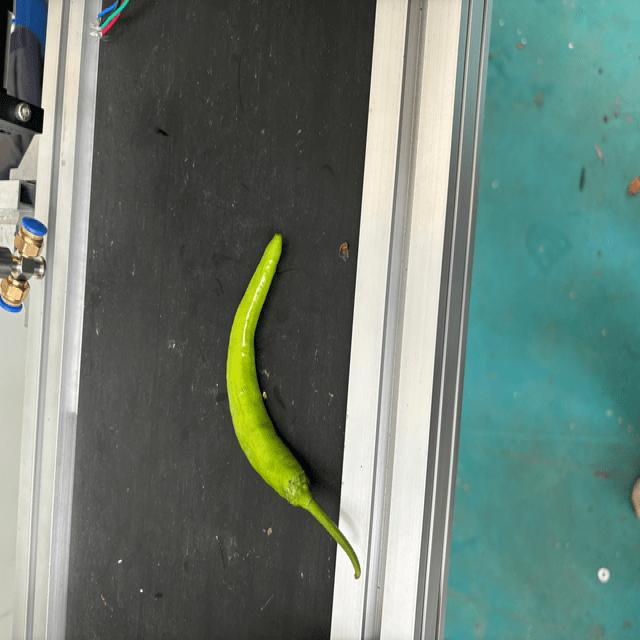chili: (225, 227, 311, 510)
